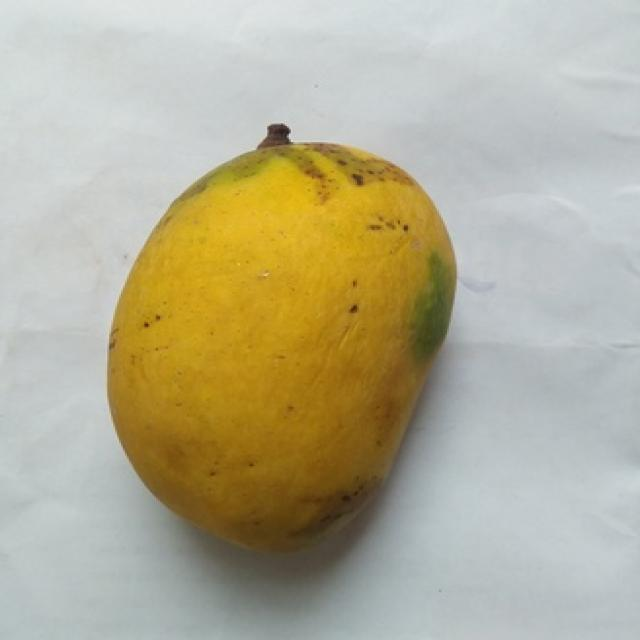Mango: (109, 144, 455, 547)
